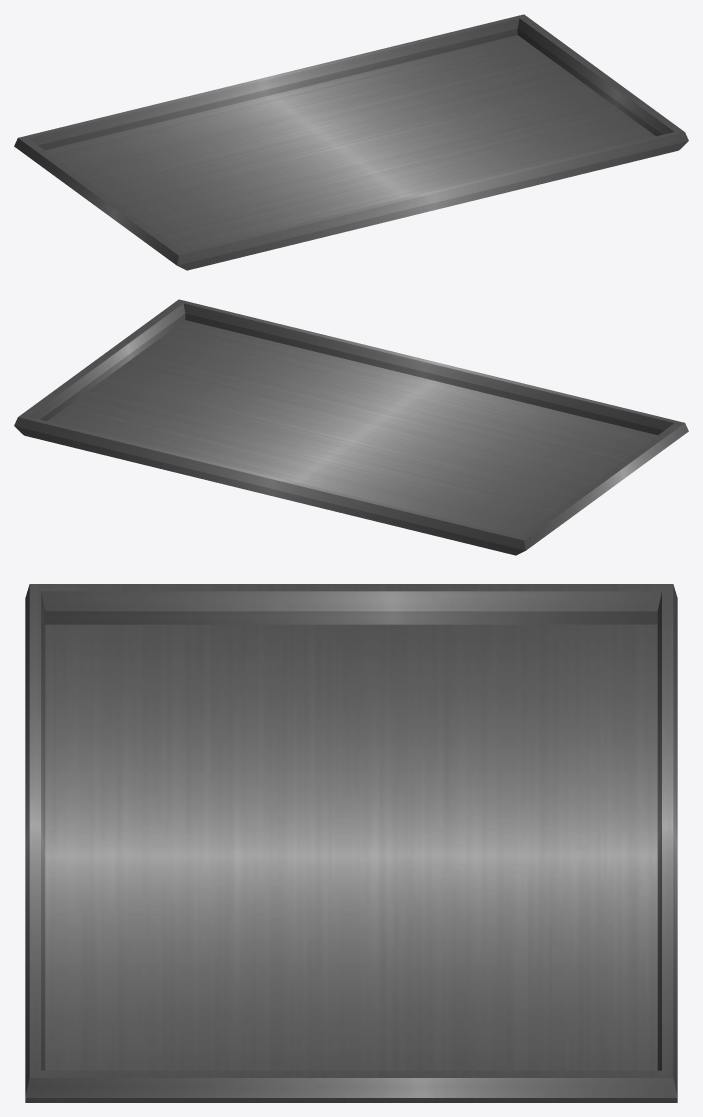
The model's file is Tray.FBX.
3 views of the same model, one above another, from view 1: azimuth 30°, elevation 25°; view 2: azimuth 150°, elevation 25°; view 3: azimuth 270°, elevation 25° (orthographic). The views are drawn at different scales.
Parts seen in each view (by area): view 1: Tray; view 2: Tray; view 3: Tray.
Part boxes in pixels (x1=…): Tray: x1=14, y1=14, x2=688, y2=270; Tray: x1=14, y1=299, x2=688, y2=555; Tray: x1=25, y1=584, x2=677, y2=1102.
Bounding box in the file's own units: 155 × 4.61 × 85.82.
